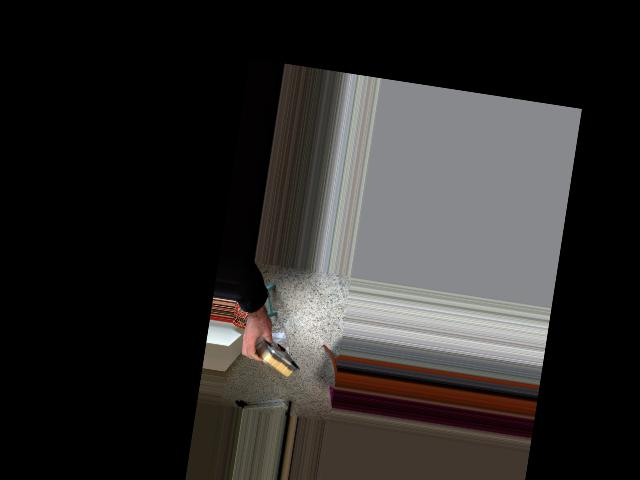cheese: (228, 322, 307, 388)
